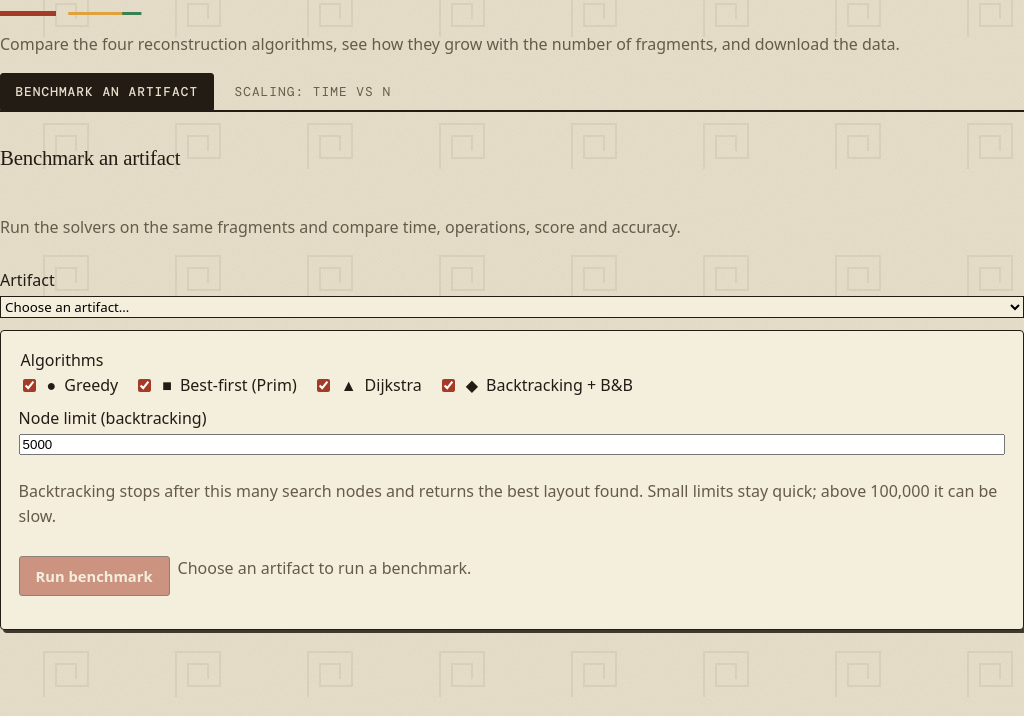
Scenario: LabPage: benchmark › asks for matching on a 409, then re-runs the benchmark after matching
Select "Pottery band (unmatched) (16 fragments)" in the dropdown labelled "Artifact" at (512, 307), box [0,296,1023,318]
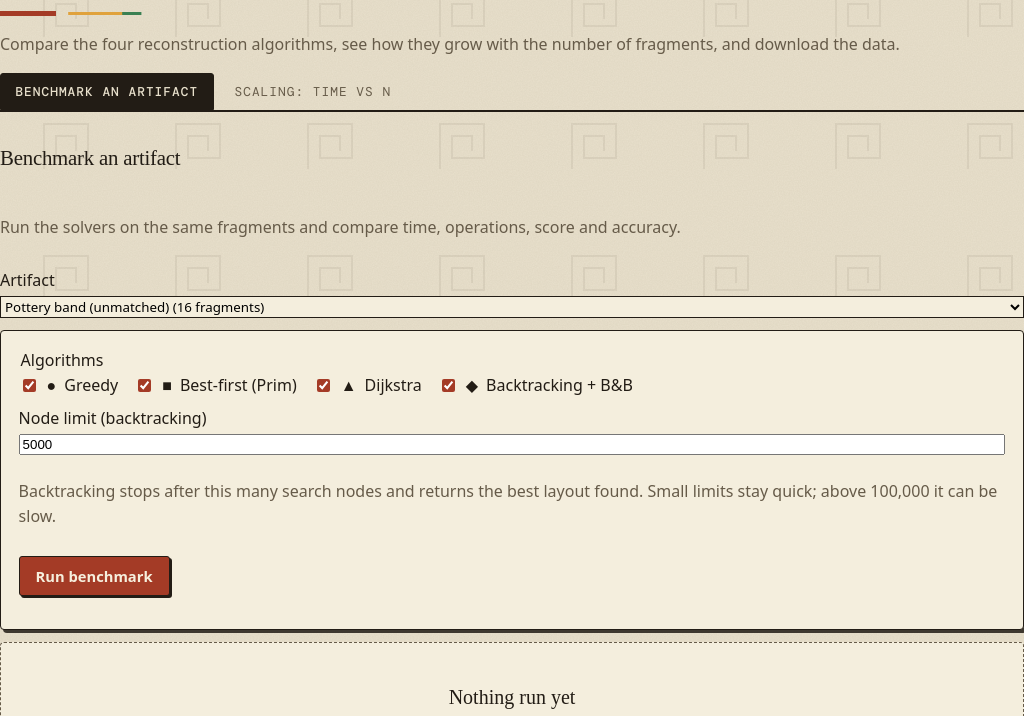
Click the button "Run benchmark" at (94, 576), box [19,556,170,596]
(page scrolled)
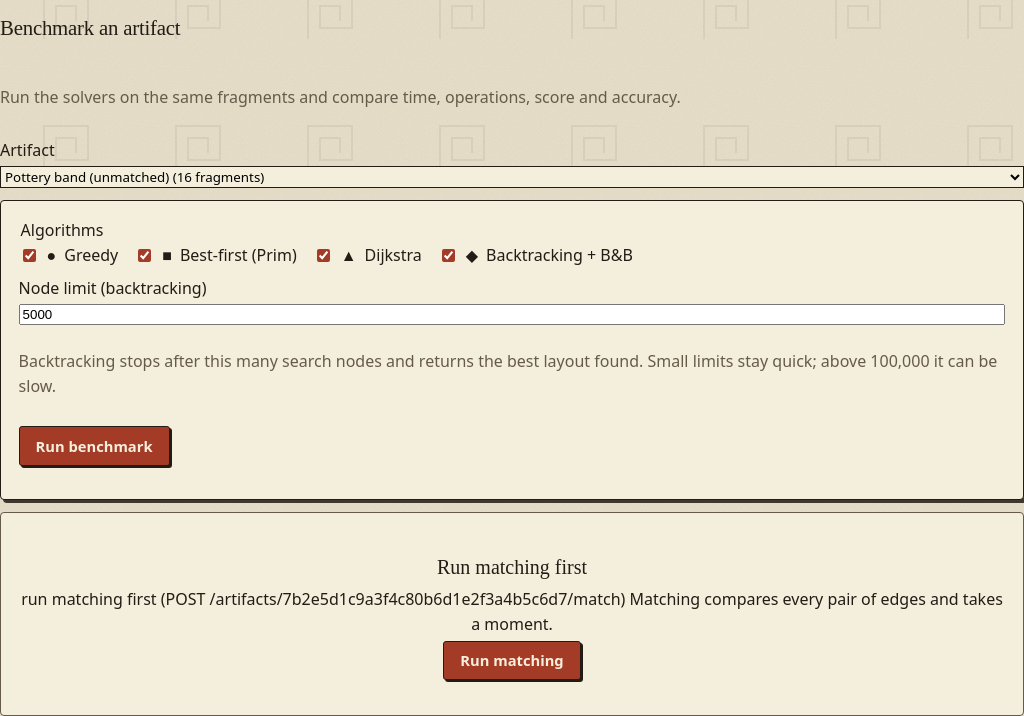
Now the text "Run matching first" is shown, box [437,556,587,578]
Click the button "Run matching" at (512, 660), box [443,641,581,680]
(page scrolled)
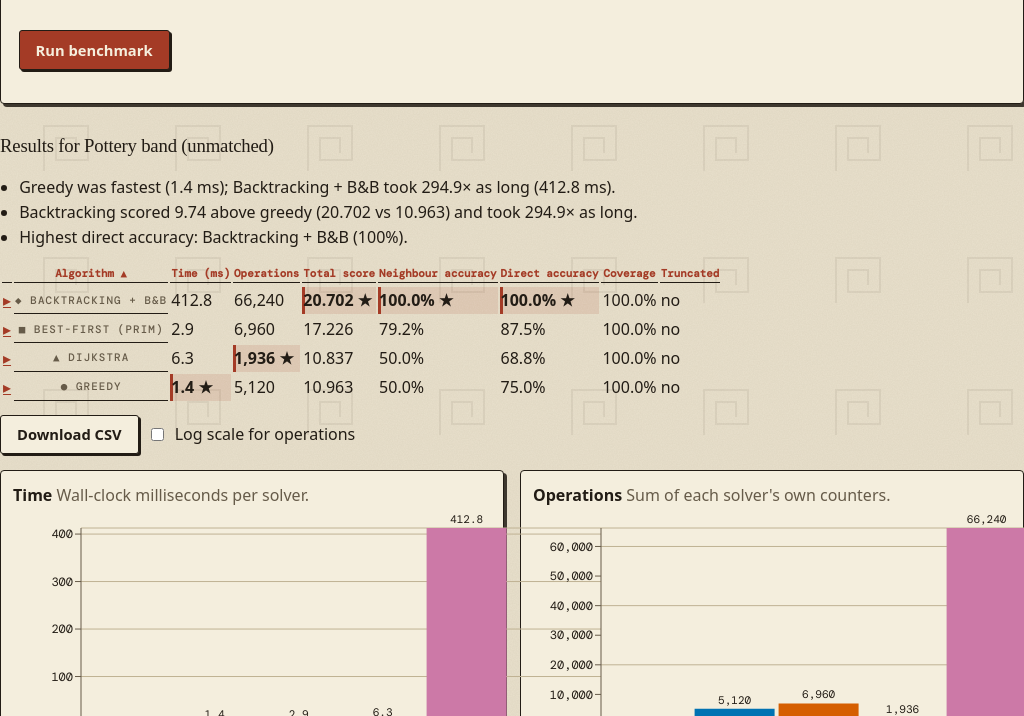
Now the table named "Benchmark results" is shown, box [0,262,722,402]
